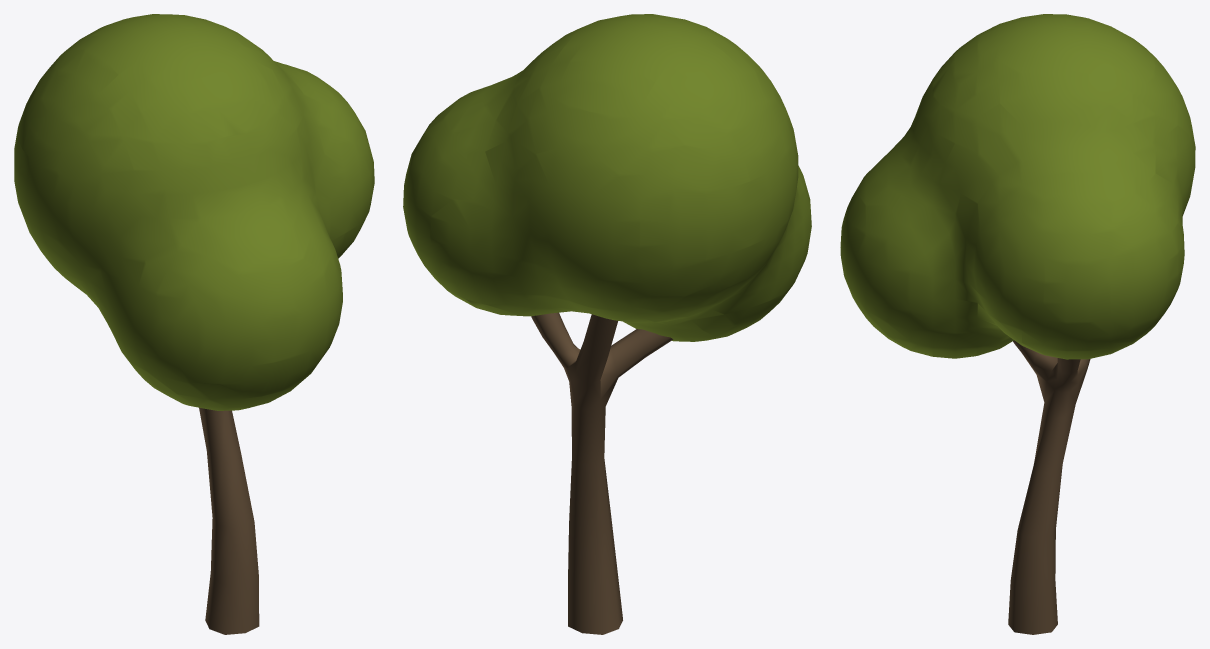
The model's file is tree.glb.
The picture shows the model from 3 angles, left to right: view 1: azimuth 30°, elevation 25°; view 2: azimuth 150°, elevation 25°; view 3: azimuth 270°, elevation 25°; orthographic projection. The views are drawn at different scales.
Parts seen in each view (by area): view 1: Tree_1; view 2: Tree_1; view 3: Tree_1.
Boxes of the visible parts, <box> form: Tree_1: <box>14,14,374,634</box>; Tree_1: <box>403,14,811,634</box>; Tree_1: <box>840,14,1195,634</box>.
Size of the model in its own units: 3.44 by 5.86 by 3.31.
